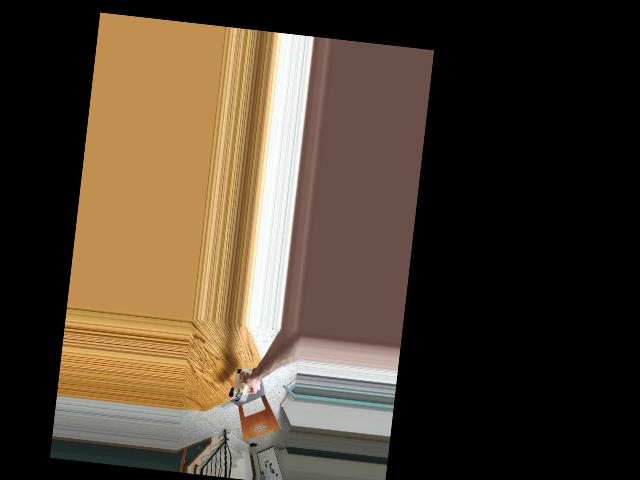cheese: (228, 366, 254, 401)
